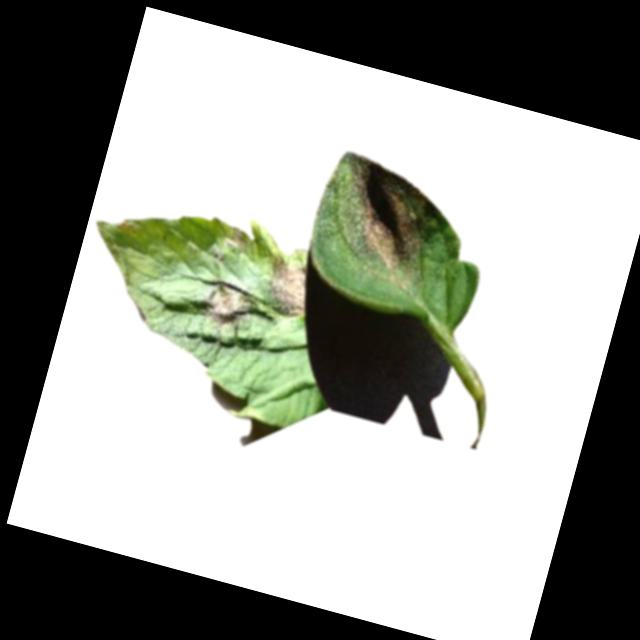Late_blight: (326, 152, 441, 278), (258, 254, 317, 324), (199, 275, 263, 336), (220, 222, 252, 258), (115, 214, 140, 235)
